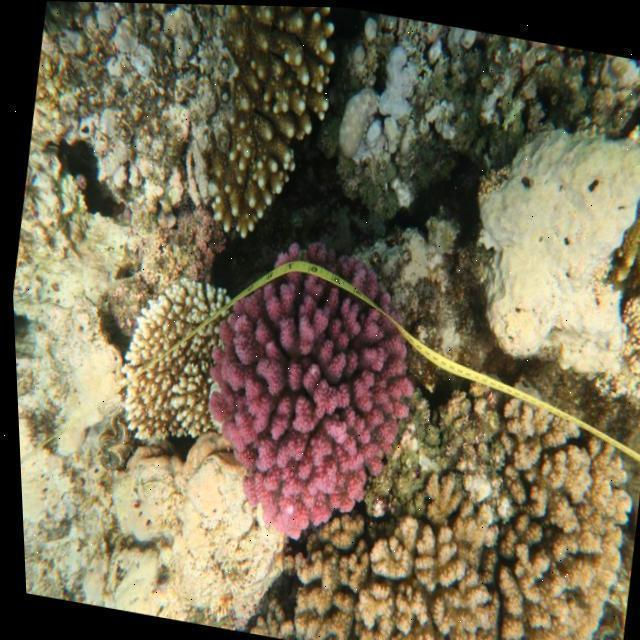Bleached Coral: (495, 126, 633, 370)
Healthy Coral: (174, 224, 437, 559), (221, 0, 341, 225), (131, 299, 225, 439)
